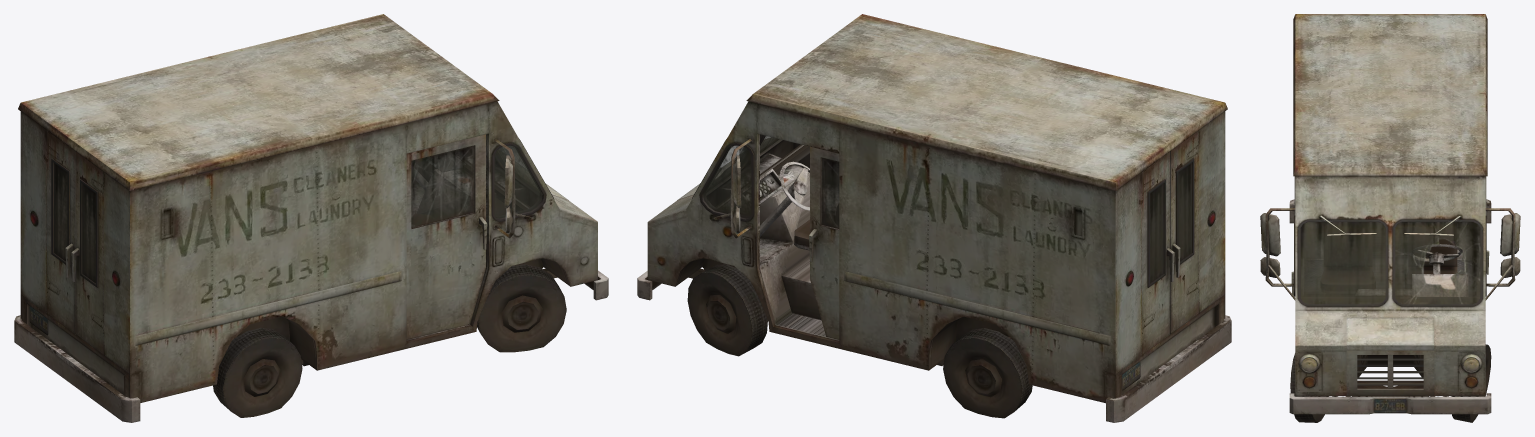
The model's file is van.glb.
3 views of the same model, side by side, from view 1: azimuth 30°, elevation 25°; view 2: azimuth 150°, elevation 25°; view 3: azimuth 270°, elevation 25° (orthographic). The views are drawn at different scales.
Visible parts, largest first — view 1: Object_10, Object_8; view 2: Object_10, Object_8; view 3: Object_10, Object_8.
Part boxes in pixels (x1,y1,x2,y2): Object_10: [14, 14, 608, 422]; Object_8: [54, 145, 542, 283]; Object_10: [637, 14, 1231, 422]; Object_8: [703, 134, 1191, 283]; Object_10: [1260, 14, 1520, 422]; Object_8: [1300, 222, 1480, 371].
Bounding box in the file's own units: 5.6 × 3.01 × 3.
Materials: 2 (2 with a texture image).
